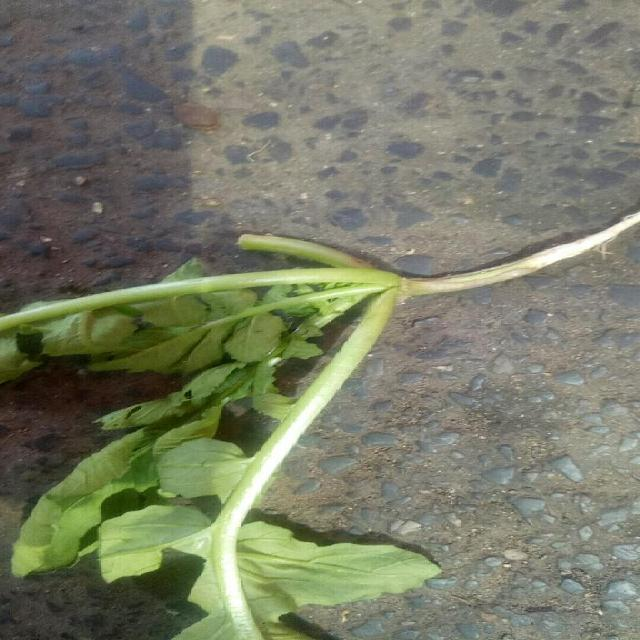-Kitchen waste - vegetable roots and leaves-: (0, 214, 640, 640)
